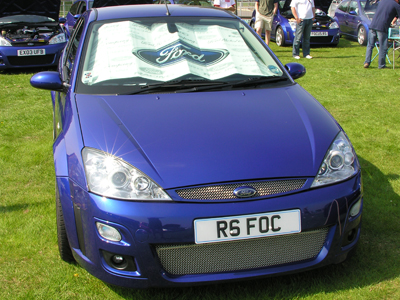licencePlate: (192, 208, 308, 246)
